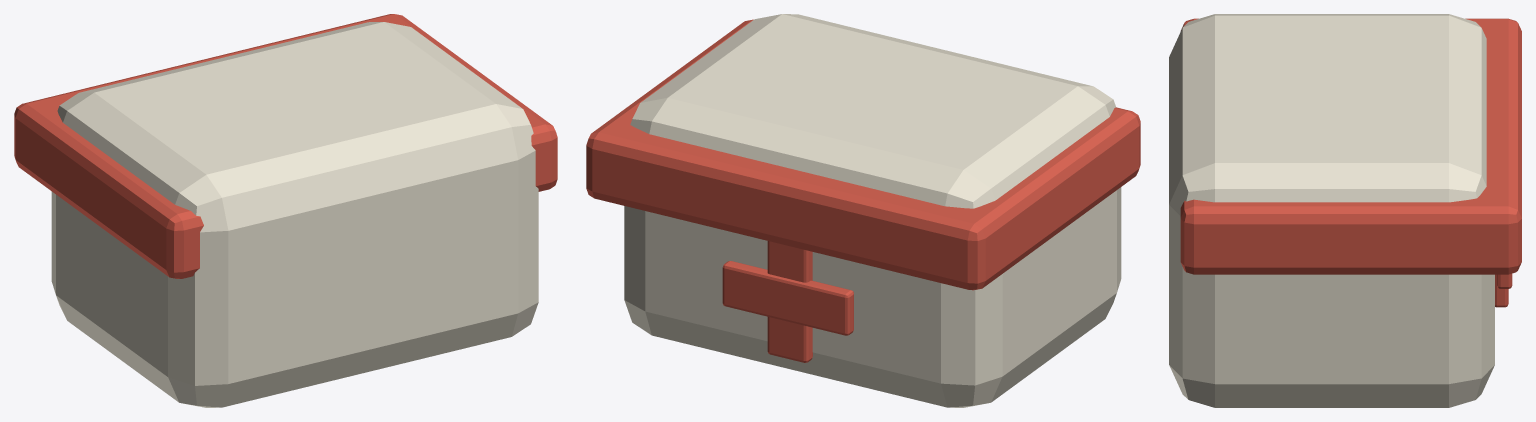
Rendered from ItemMedkit.glb.
3 renders of one model, left to right at view 1: azimuth 30°, elevation 25°; view 2: azimuth 150°, elevation 25°; view 3: azimuth 270°, elevation 25°, orthographic. The views are drawn at different scales.
Visible parts, largest first — view 1: ItemMedkit; view 2: ItemMedkit; view 3: ItemMedkit.
Part boxes in pixels (x1,y1,x2,y2): ItemMedkit: (14,14,557,407); ItemMedkit: (586,14,1140,407); ItemMedkit: (1169,14,1521,407).
Size of the model in its own units: 0.245 by 0.14 by 0.184.
